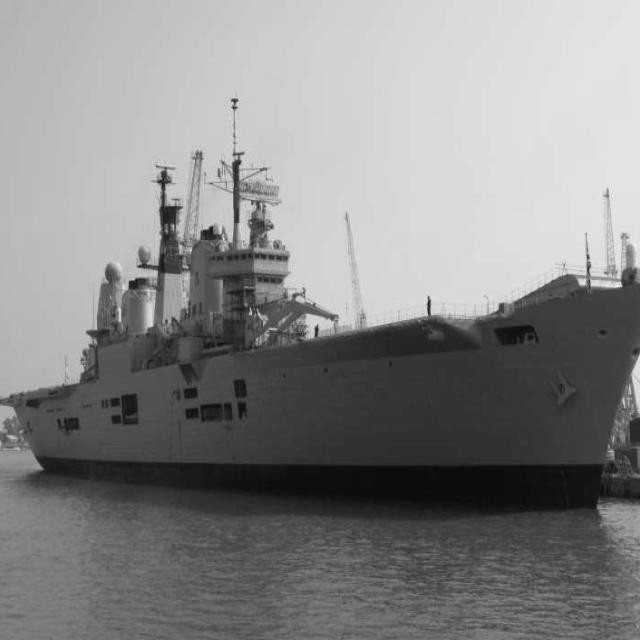Portanaves: (1, 72, 640, 520)
